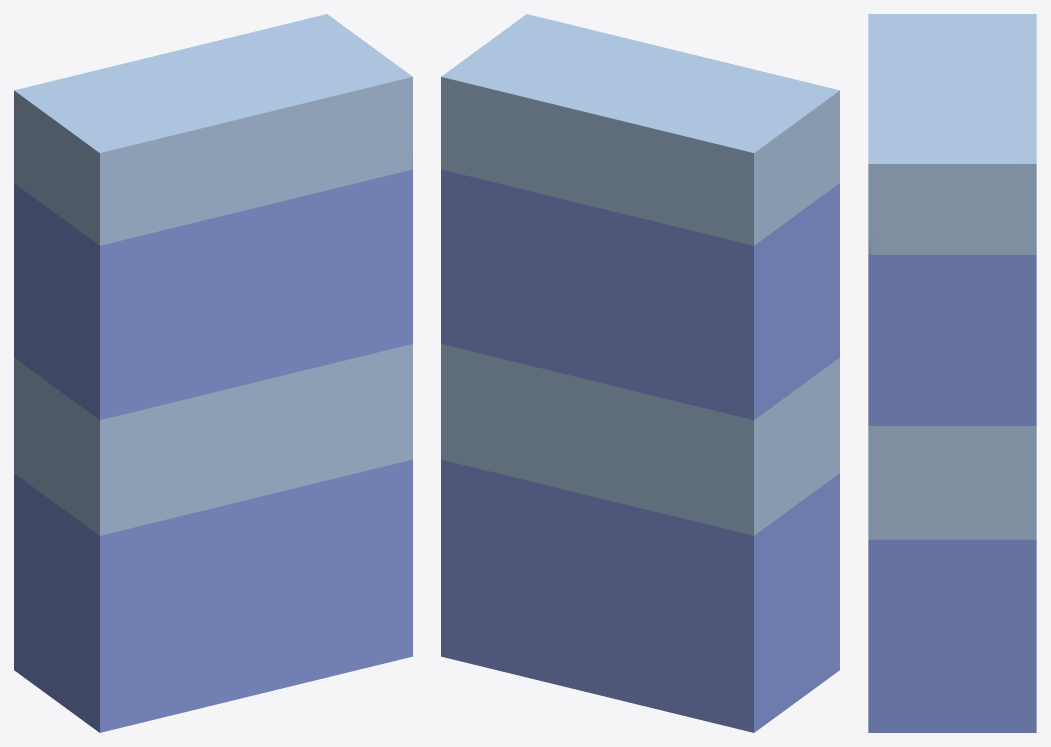
File: Ürün9.fbx
3 views of the same model, side by side, from view 1: azimuth 30°, elevation 25°; view 2: azimuth 150°, elevation 25°; view 3: azimuth 270°, elevation 25° (orthographic).
Visible parts, largest first — view 1: pCube78; view 2: pCube78; view 3: pCube78.
Boxes of the visible parts, x1,y1,x2,y2 form: pCube78: (14,14,412,732); pCube78: (441,14,839,732); pCube78: (868,14,1036,732).
Size of the model in its own units: 23.51 by 41.6 by 11.16.
